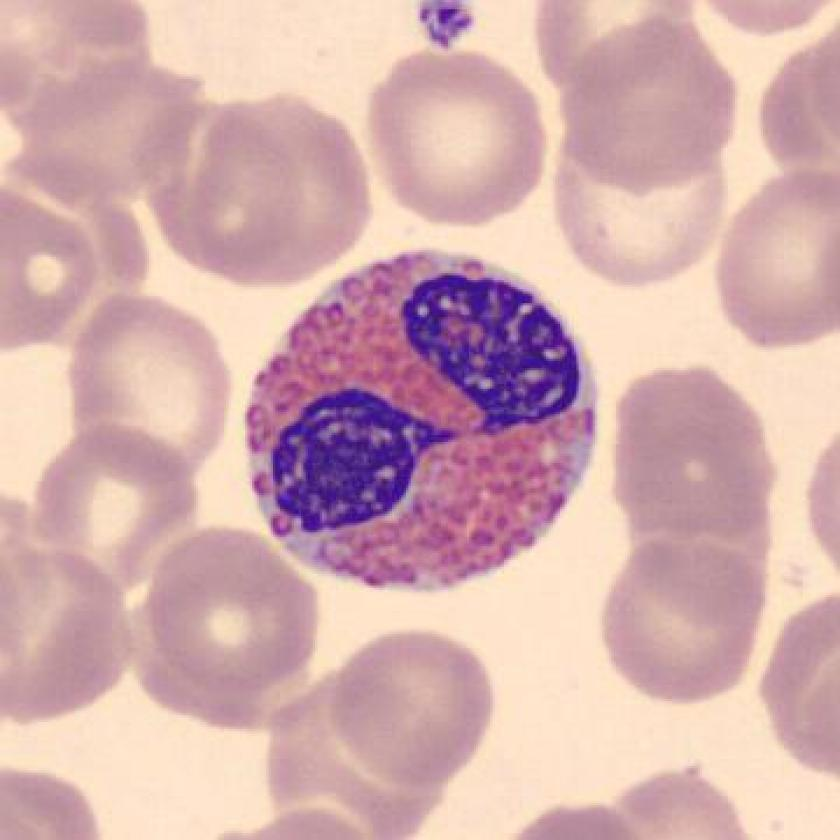eosinophil: (225, 233, 619, 610)
